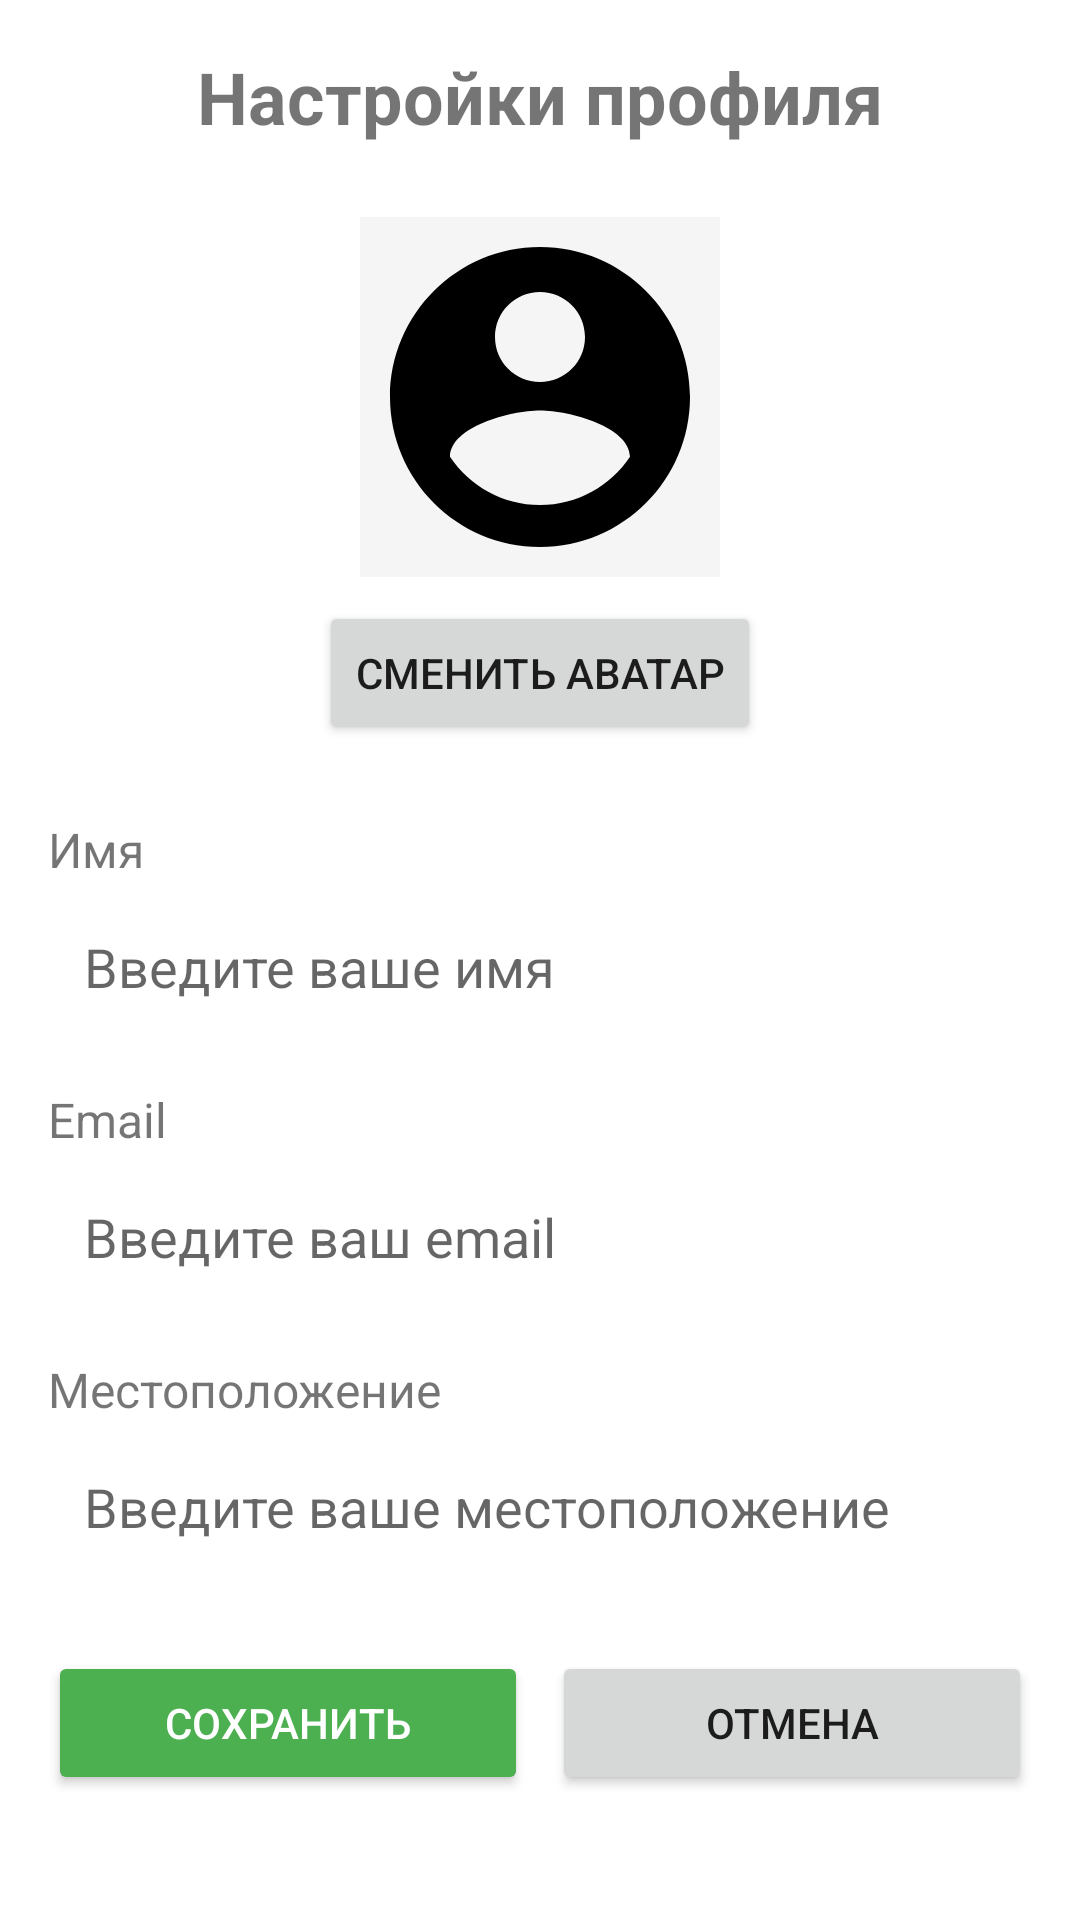

Icons on this 1080px×1920px Android screen, each with the point to tap as (x=x, y=y):
profile: (x=540, y=397)
